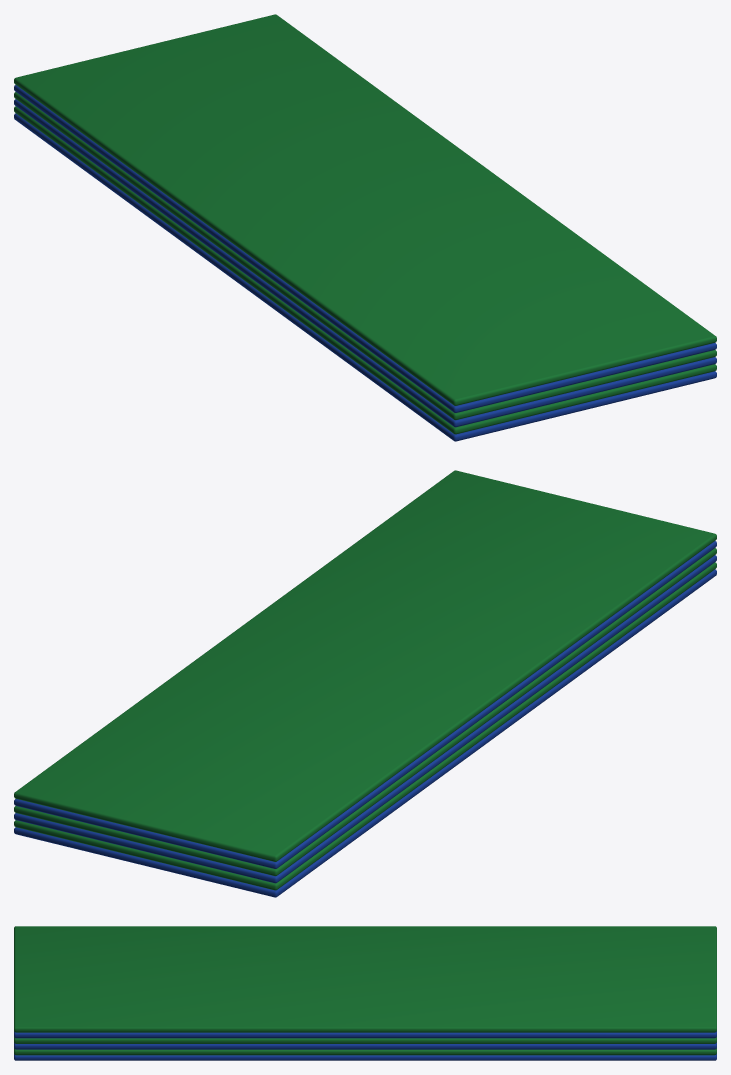
File: sport.gym.mat_stack.glb
3 renders of one model, top to bottom at view 1: azimuth 30°, elevation 25°; view 2: azimuth 150°, elevation 25°; view 3: azimuth 270°, elevation 25°, orthographic. The views are drawn at different scales.
Parts seen in each view (by area): view 1: main__plastic_green, main__plastic_blue; view 2: main__plastic_green, main__plastic_blue; view 3: main__plastic_green, main__plastic_blue.
Boxes of the visible parts, <box> form: main__plastic_green: <box>14,14,716,434</box>; main__plastic_blue: <box>14,85,716,441</box>; main__plastic_green: <box>14,470,716,890</box>; main__plastic_blue: <box>14,541,716,897</box>; main__plastic_green: <box>14,926,716,1055</box>; main__plastic_blue: <box>14,1031,716,1060</box>.
Size of the model in its own units: 0.62 by 0.095 by 1.8.
